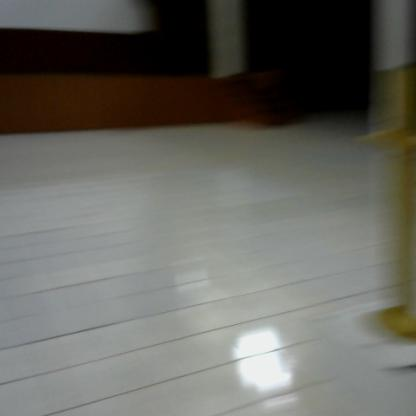pole: (351, 62, 416, 350)
